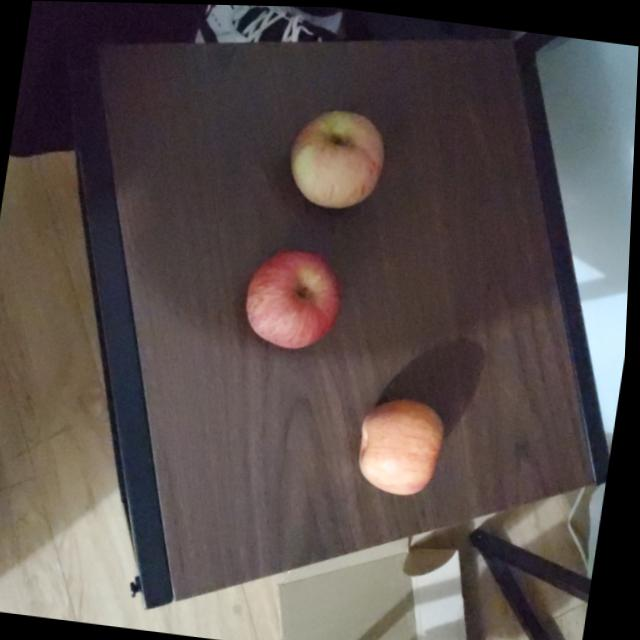apple: (287, 102, 394, 212), (242, 241, 350, 349), (355, 387, 452, 496)
